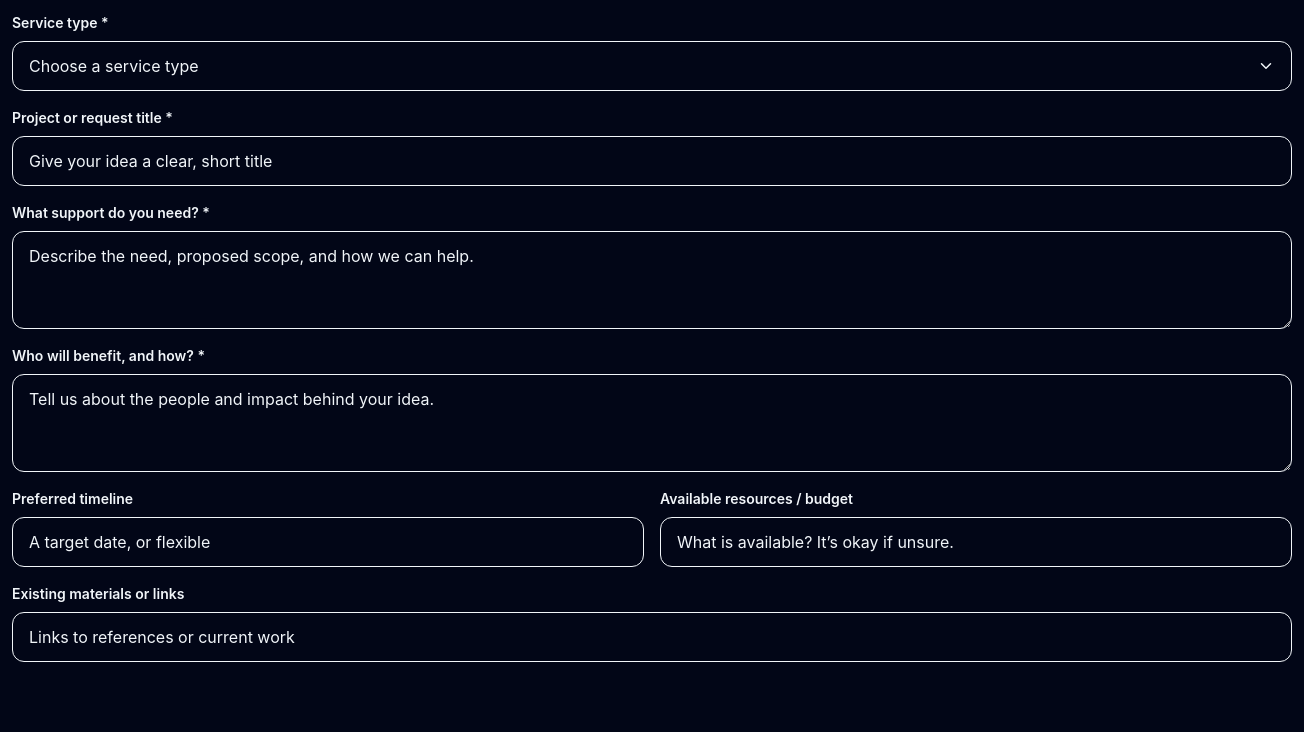
Scenario: MAKEFORM › renders the seven designed fields and the exact service options
Click the dropdown labelled "service type": coordinates (114, 66) top-left (12, 41), bottom-right (1292, 91)
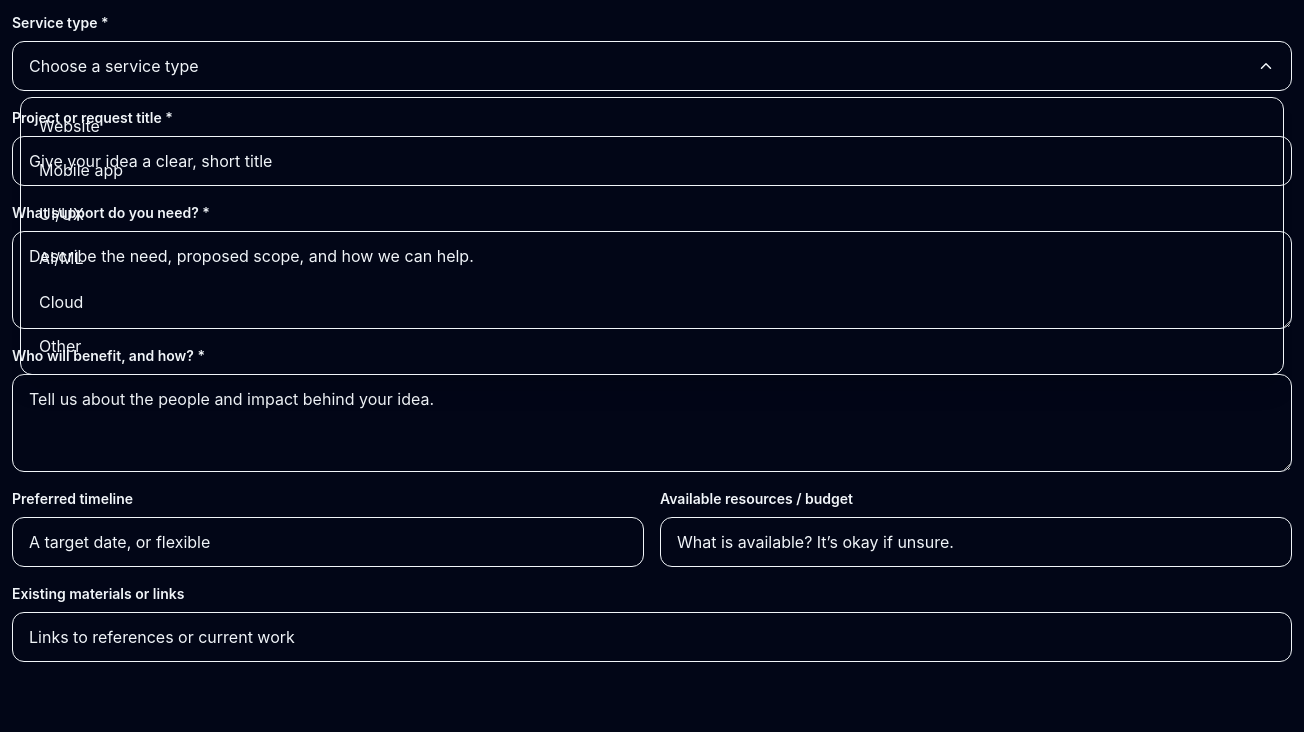
expect the options read "Website", "Mobile app", "UI/UX", "AI/ML", "Cloud", "Other", in this order: met, box top-left (39, 116), bottom-right (100, 136); top-left (39, 160), bottom-right (123, 180); top-left (39, 204), bottom-right (84, 224); top-left (39, 248), bottom-right (84, 268); top-left (39, 292), bottom-right (83, 312); top-left (39, 336), bottom-right (81, 356)
